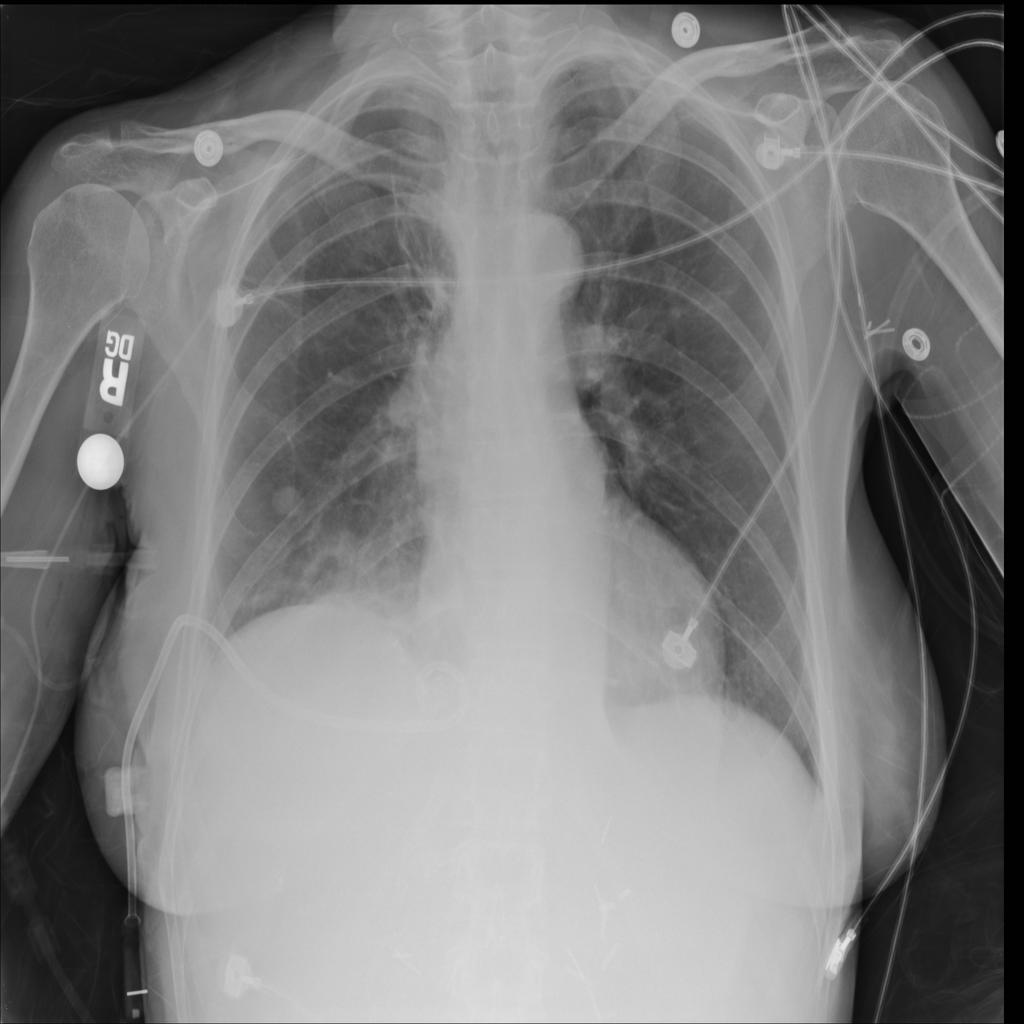nodule: (267, 476, 316, 529)
